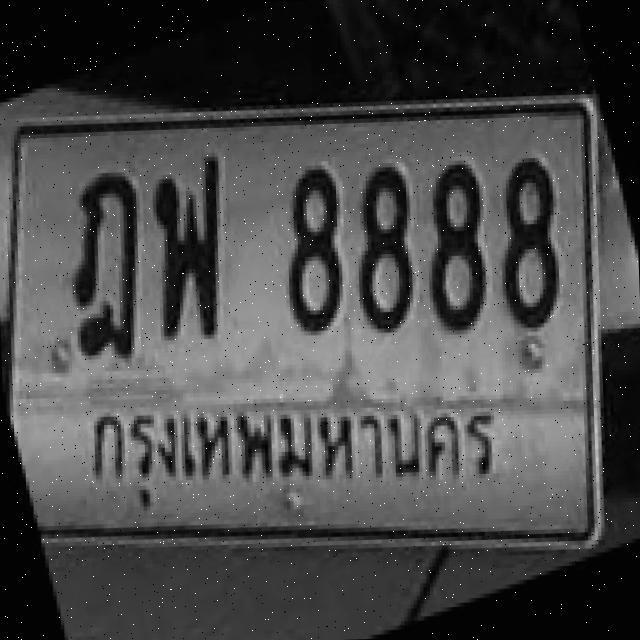23DorChaDa: (55, 144, 152, 388)
40ForFun: (153, 140, 237, 355)
Bangkok: (74, 386, 523, 512)
